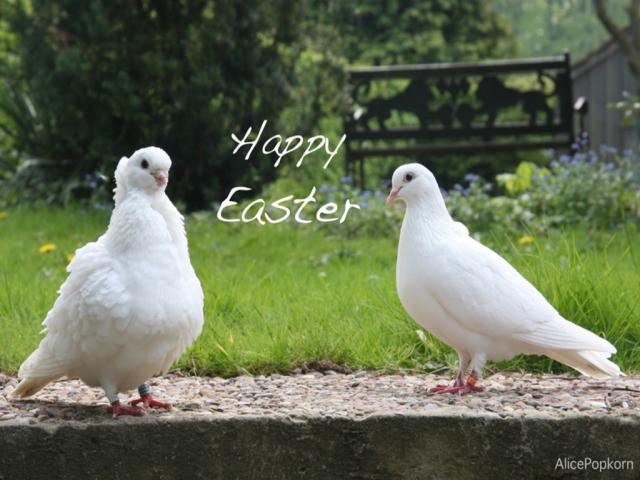Bird: (386, 160, 629, 398), (8, 142, 212, 419)
